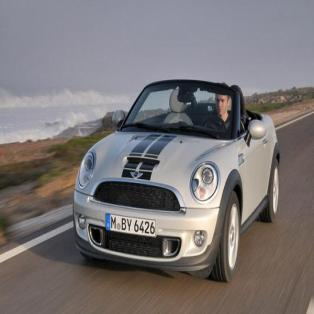Auto: (73, 79, 280, 283)
